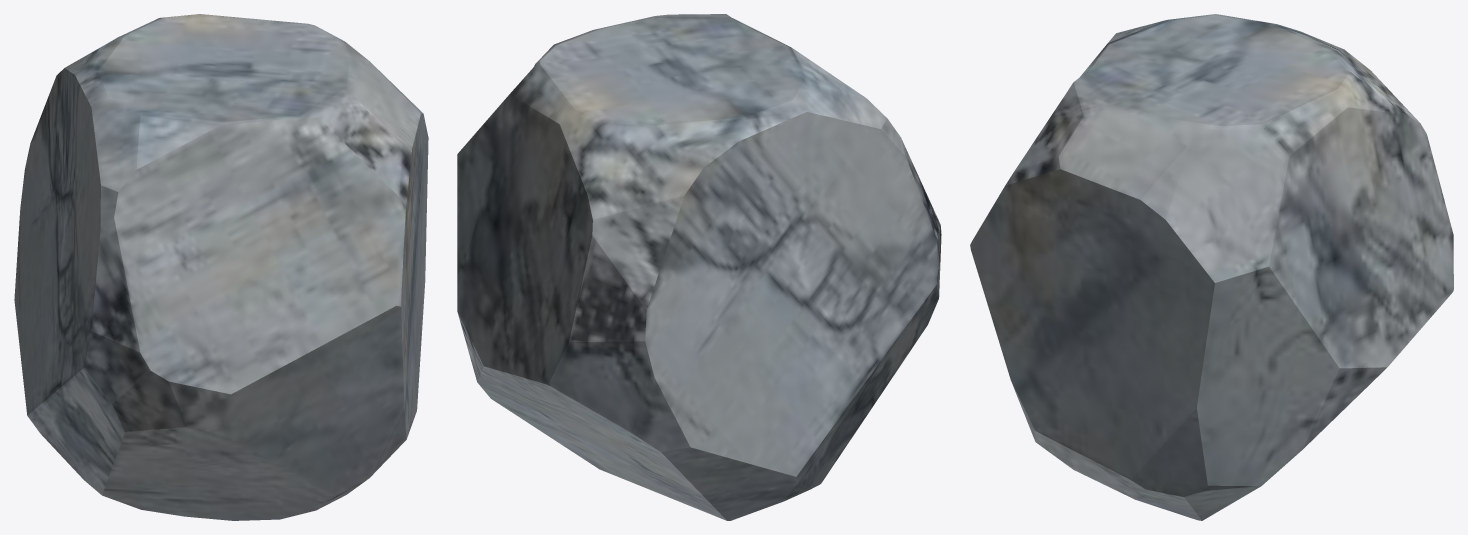
Rendered from boulder-swamp.fbx.
3 views of the same model, side by side, from view 1: azimuth 30°, elevation 25°; view 2: azimuth 150°, elevation 25°; view 3: azimuth 270°, elevation 25° (orthographic). The views are drawn at different scales.
Visible parts, largest first — view 1: boulder; view 2: boulder; view 3: boulder.
Part boxes in pixels (x1,y1,x2,y2): boulder: (14,14,428,520); boulder: (457,14,941,520); boulder: (970,14,1453,520).
Bounding box in the file's own units: 100 × 100 × 106.
